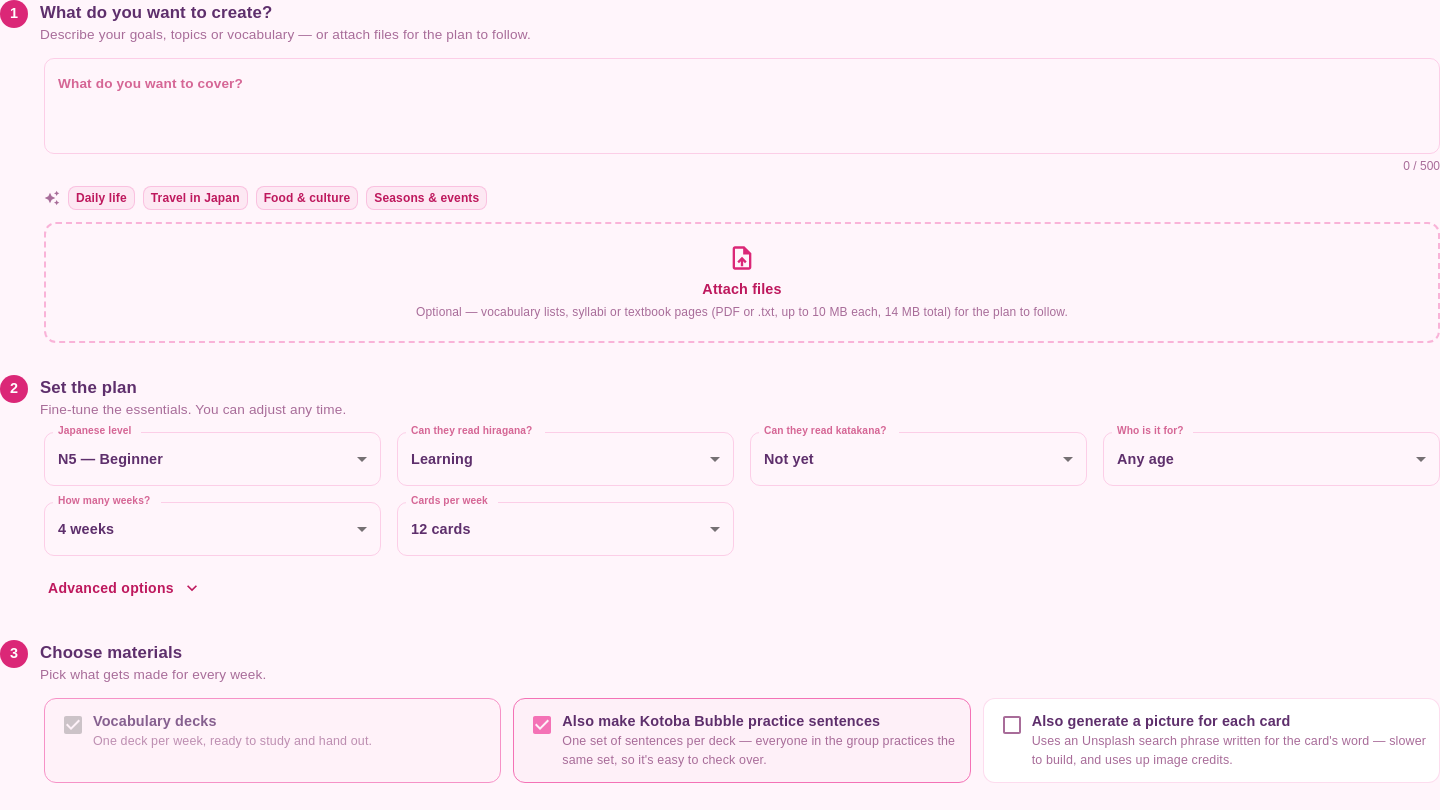
Test: LessonSetBuilder review step › renders furigana markup in the example sentence as ruby text
Replace the text in the text box labelled "What do you want to cover?" with "Food words": (742, 106) x1=58 y1=74 x2=1426 y2=137
(page scrolled)
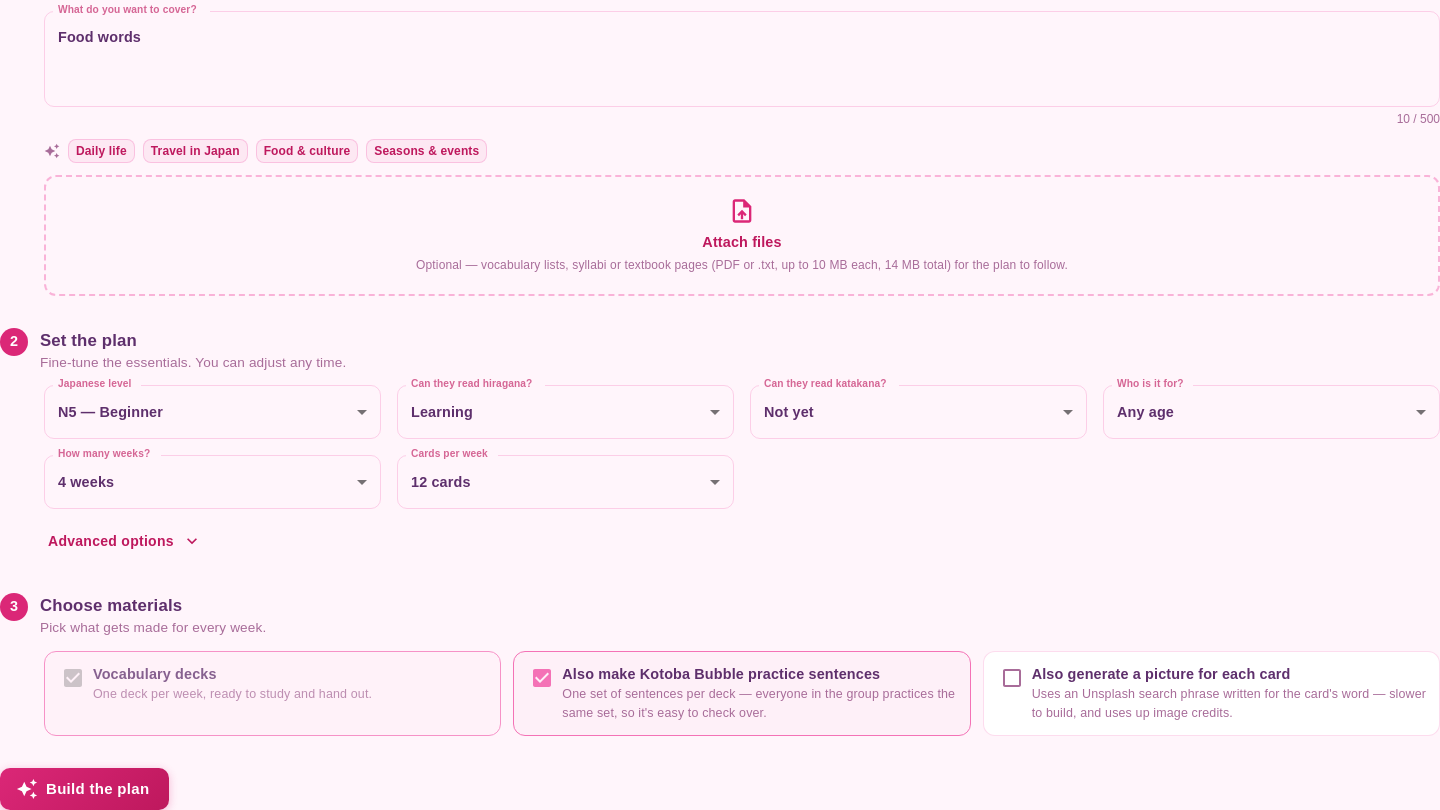
Click the button "Build the plan": (85, 789) x1=0 y1=768 x2=169 y2=809
(page scrolled)
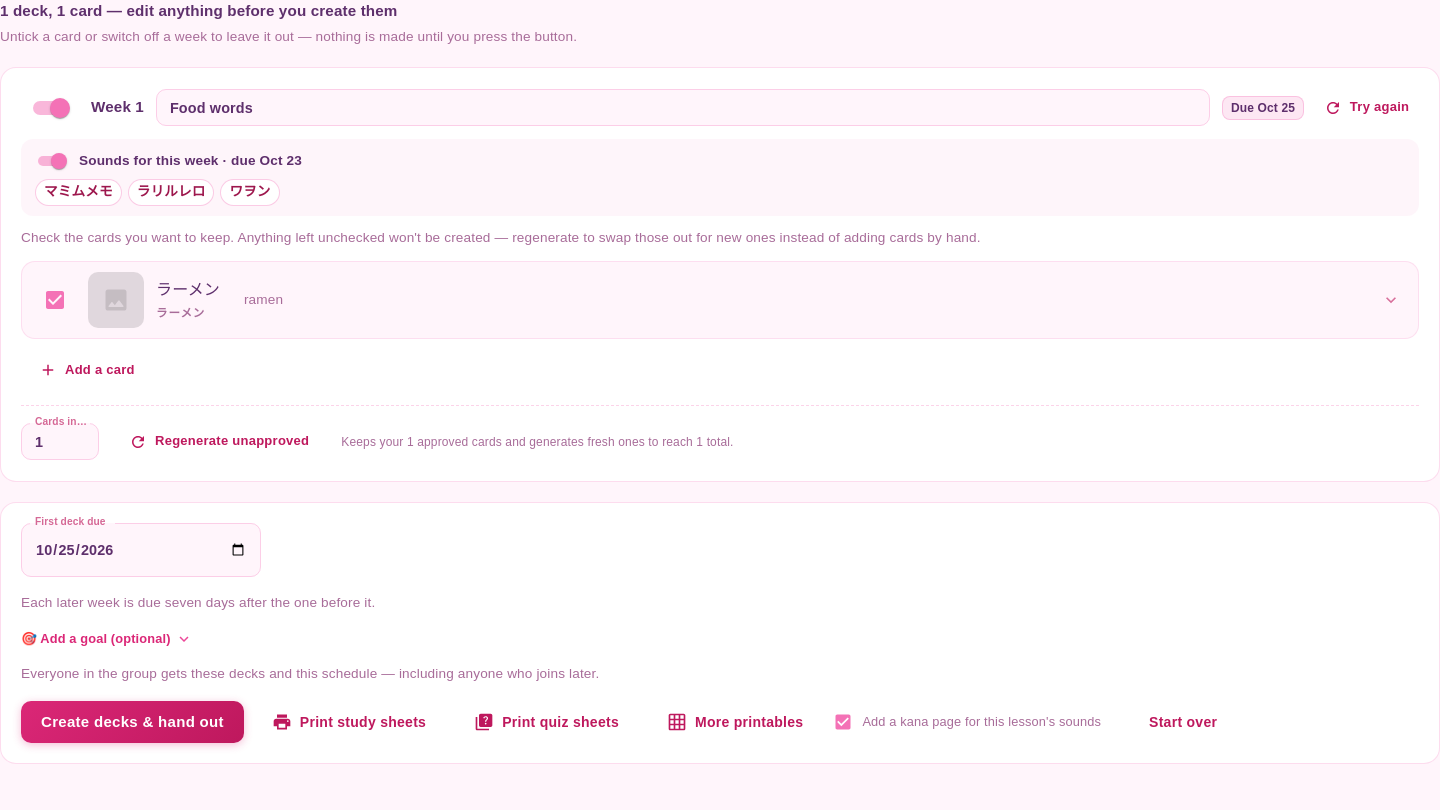
Result: the field showing "Food words" is shown at x1=156 y1=89 x2=1210 y2=126
Click the button named "Show details": (1391, 300) x1=1376 y1=284 x2=1406 y2=314
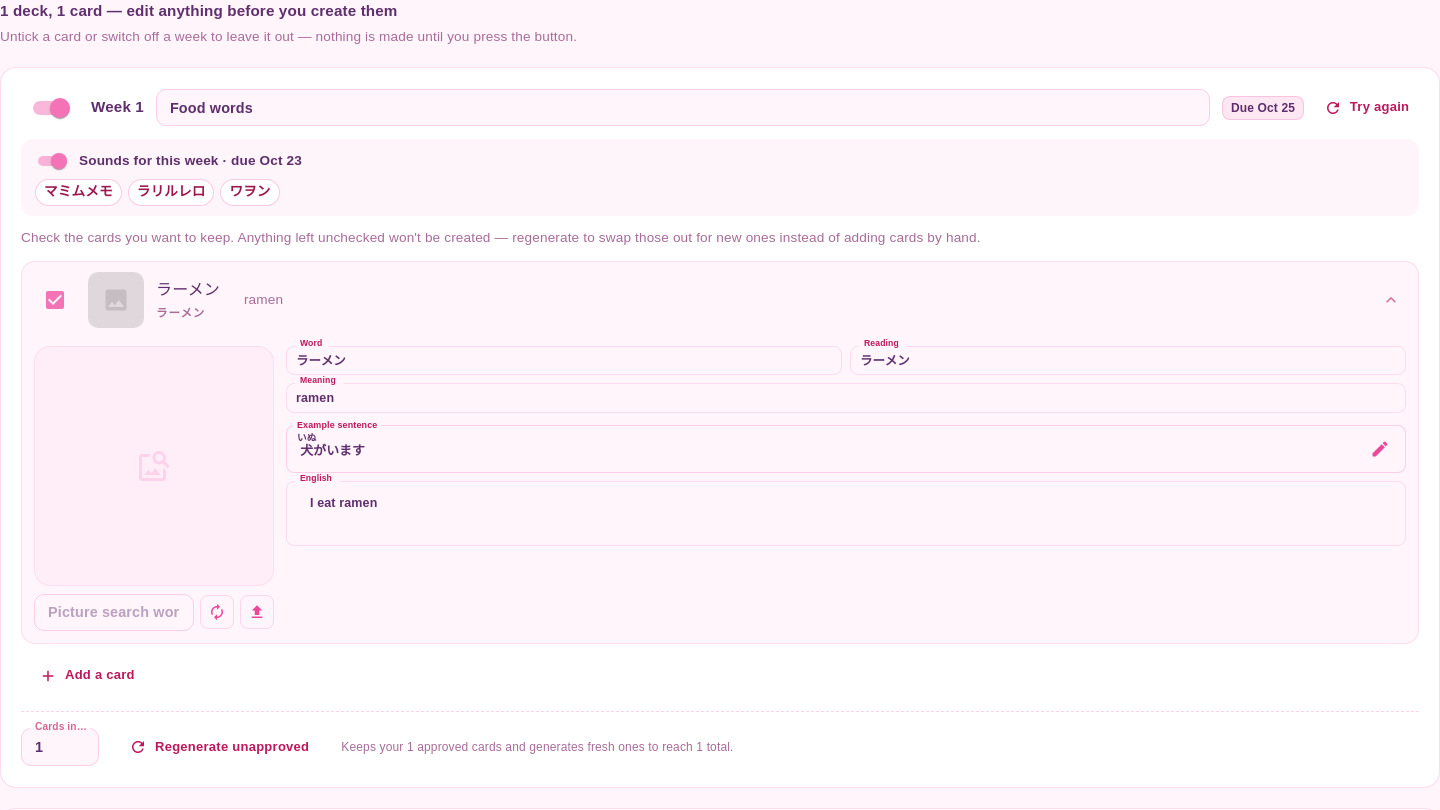
Result: the text "犬" shows "いぬ" at x1=297 y1=432 x2=316 y2=443
